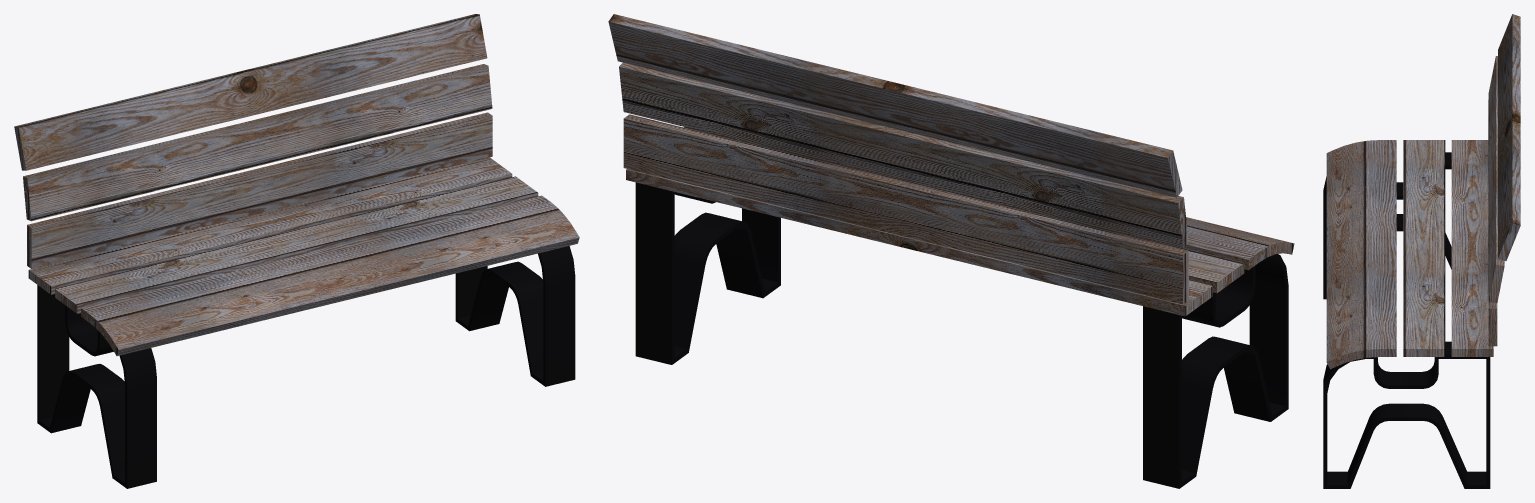
The model's file is Bench.FBX.
The picture shows the model from 3 angles, left to right: view 1: azimuth 30°, elevation 25°; view 2: azimuth 150°, elevation 25°; view 3: azimuth 270°, elevation 25°; orthographic projection. The views are drawn at different scales.
Visible parts, largest first — view 1: Park_Bench01; view 2: Park_Bench01; view 3: Park_Bench01.
Boxes of the visible parts, x1=… form: Park_Bench01: x1=14, y1=14, x2=579, y2=488; Park_Bench01: x1=608, y1=14, x2=1294, y2=488; Park_Bench01: x1=1323, y1=14, x2=1520, y2=488.
Size of the model in its own units: 62.5 by 37.47 by 24.94.
2 materials, 1 textured.
